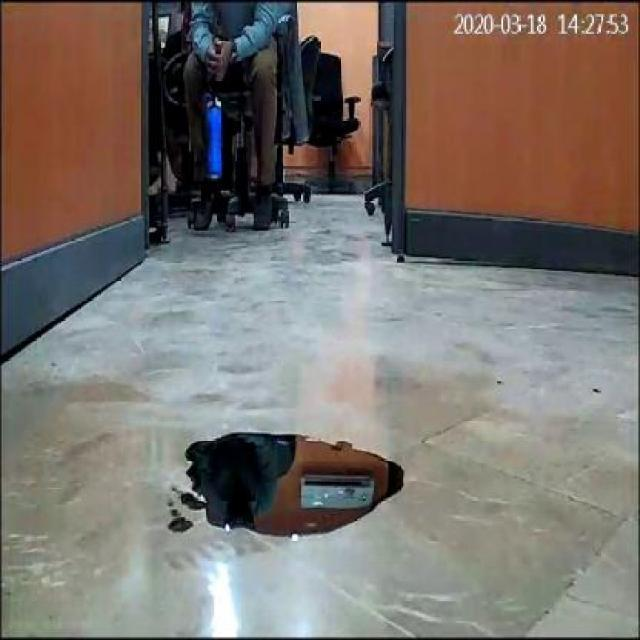spill: (180, 428, 406, 534)
